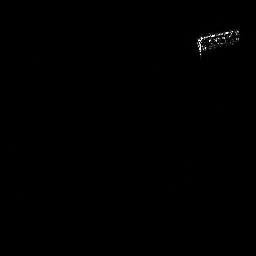ship: (195, 29, 241, 57)
